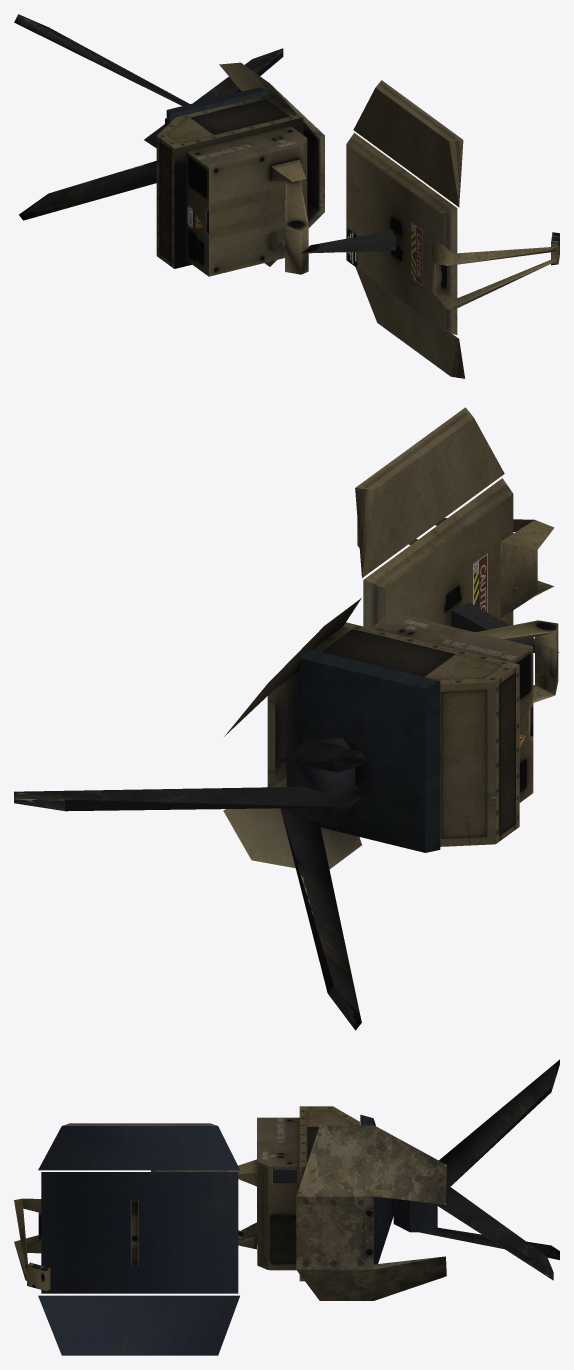
Rendered from t6_wpn_turret_ads_carry_animate_LOD2.obj.
3 views of the same model, one above another, from view 1: azimuth 30°, elevation 25°; view 2: azimuth 150°, elevation 25°; view 3: azimuth 270°, elevation 25° (orthographic). The views are drawn at different scales.
Visible parts, largest first — view 1: mtl_t6_wpn_turret_ads_yellow; view 2: mtl_t6_wpn_turret_ads_yellow; view 3: mtl_t6_wpn_turret_ads_yellow.
Boxes of the visible parts, left/top/right/bottom form: mtl_t6_wpn_turret_ads_yellow: left=14, top=14, right=559, bottom=378; mtl_t6_wpn_turret_ads_yellow: left=14, top=407, right=559, bottom=1030; mtl_t6_wpn_turret_ads_yellow: left=14, top=1059, right=559, bottom=1355.
Bounding box in the file's own units: 98.97 × 81.78 × 177.
